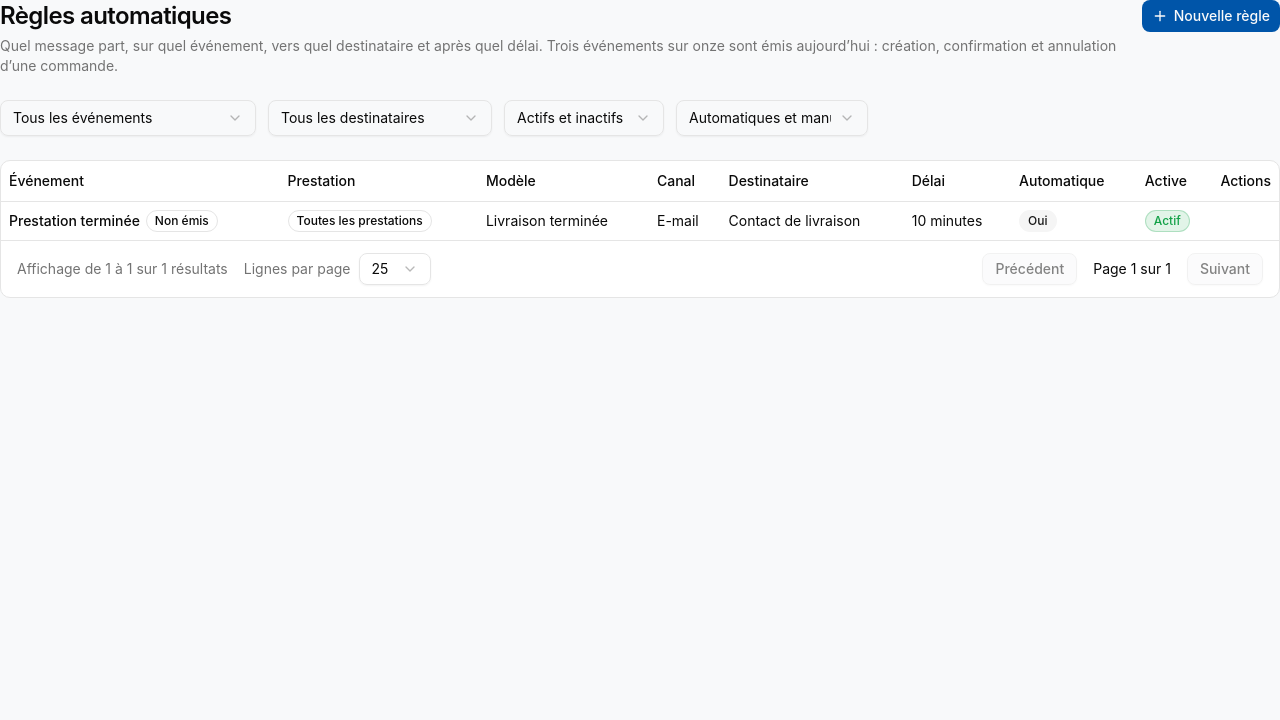
Test case: création d’une règle › ne propose jamais un modèle de facture
Click the button "Nouvelle règle". click: (1211, 16)
box: x1=1142 y1=0 x2=1279 y2=32
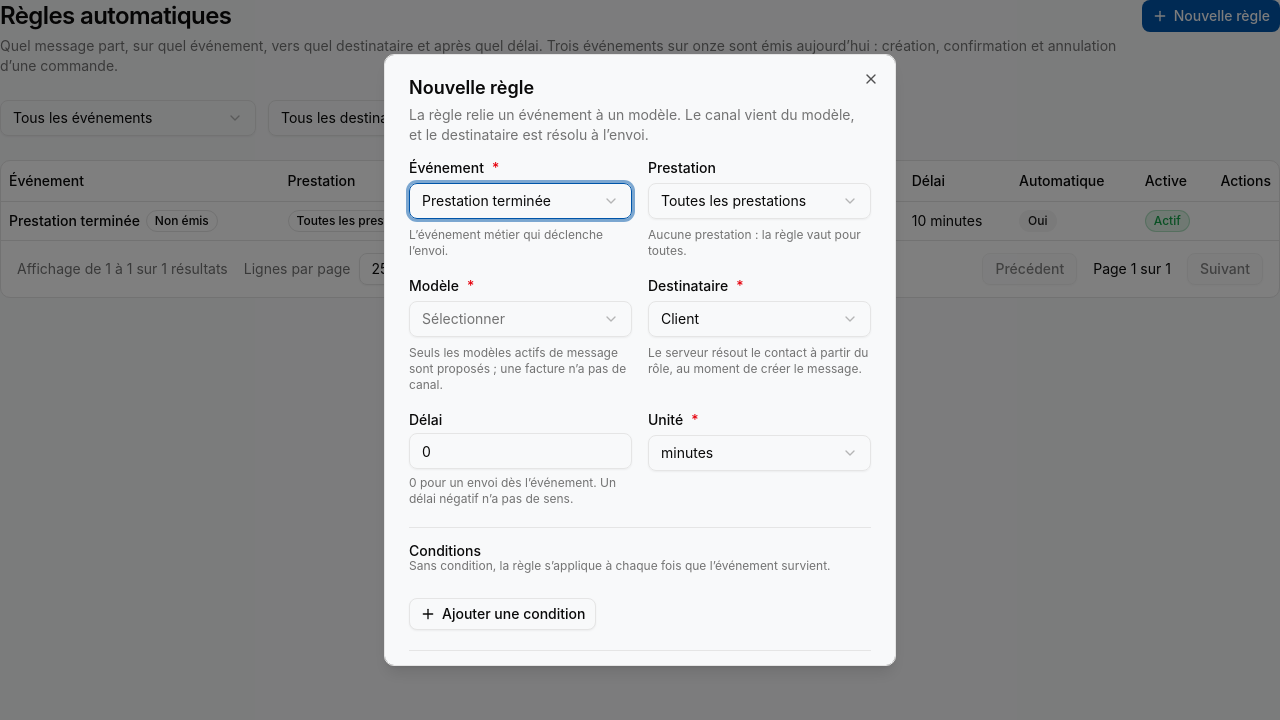
Click the dropdown named "Modèle". click: (520, 319)
box: x1=409 y1=301 x2=632 y2=337
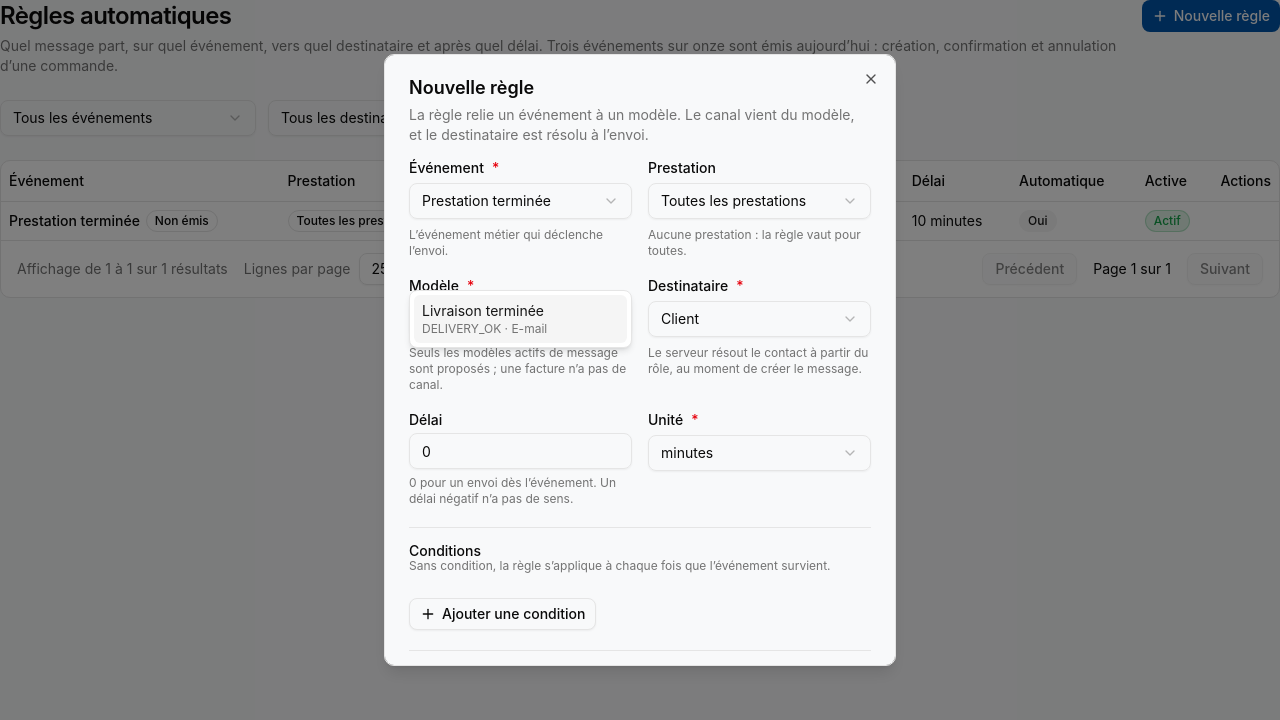
Expected: the option "Livraison terminée DELIVERY_OK · E-mail" is shown, x1=414 y1=295 x2=627 y2=343
